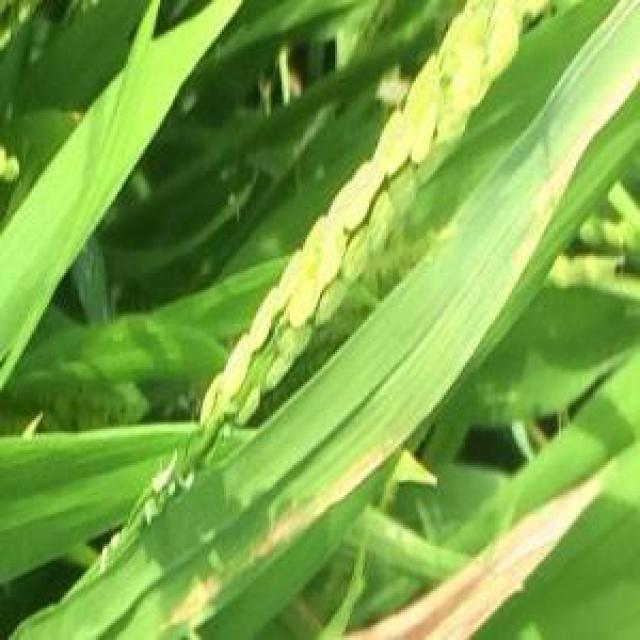Bacterial_Blight: (339, 465, 612, 640), (254, 442, 394, 568)
